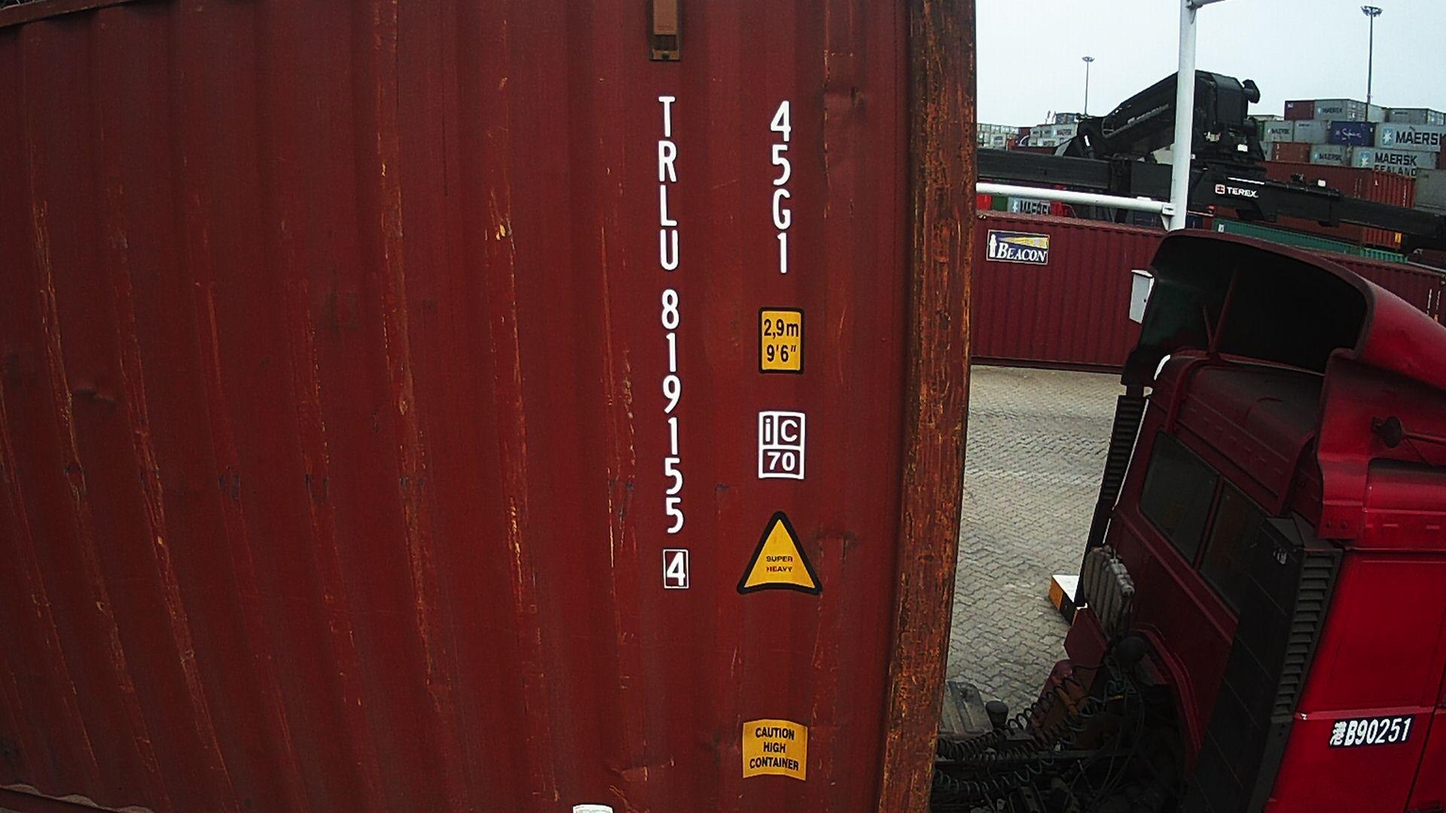container-numbers: (650, 88, 692, 597), (764, 96, 801, 280)
